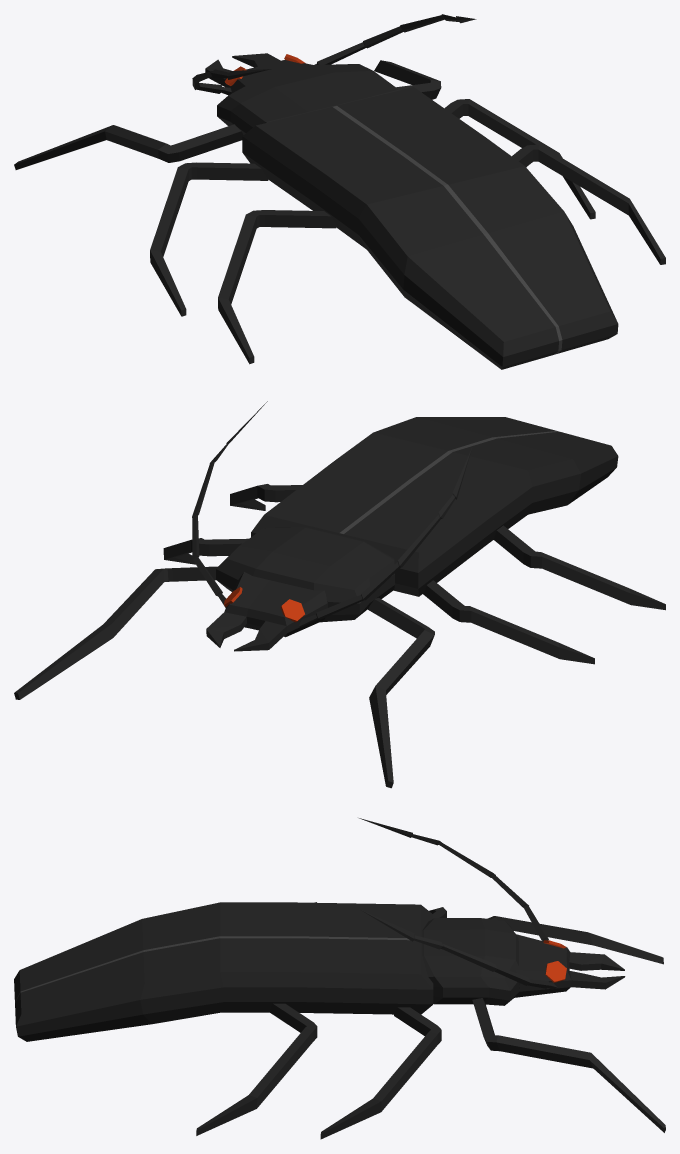
File: drevoed.fbx
3 renders of one model, top to bottom at view 1: azimuth 30°, elevation 25°; view 2: azimuth 150°, elevation 25°; view 3: azimuth 270°, elevation 25°, orthographic. The views are drawn at different scales.
Parts seen in each view (by area): view 1: Cube, Cube.001, Cube.005, Cube.007, Cube.009, Cube.006, Cube.008, Cube.002, Cube.004, Cube.010, Cube.003; view 2: Cube, Cube.001, Cube.002, Cube.010, Cube.009, Cube.005, Cube.007, Cube.003, Cube.008, Cube.004, Cube.006; view 3: Cube, Cube.001, Cube.002, Cube.010, Cube.006, Cube.008, Cube.009, Cube.004, Cube.003.
Part boxes in pixels (x1,y1,x2,y2): Cube: (242, 87, 618, 369); Cube.001: (217, 64, 398, 134); Cube.005: (218, 210, 336, 364); Cube.007: (150, 162, 268, 316); Cube.009: (14, 124, 243, 169); Cube.006: (512, 144, 665, 264); Cube.008: (444, 99, 595, 219); Cube.002: (205, 53, 314, 93); Cube.004: (314, 14, 476, 65); Cube.010: (374, 60, 441, 99); Cube.003: (192, 69, 271, 95); Cube: (251, 417, 618, 596); Cube.001: (216, 527, 394, 622); Cube.002: (206, 572, 327, 651); Cube.010: (14, 566, 217, 699); Cube.009: (367, 597, 434, 788); Cube.005: (493, 525, 665, 610); Cube.007: (423, 580, 594, 664); Cube.003: (299, 447, 472, 627); Cube.008: (163, 538, 248, 564); Cube.004: (192, 401, 267, 607); Cube.006: (230, 484, 302, 510); Cube: (14, 902, 433, 1041); Cube.001: (422, 918, 519, 1005); Cube.002: (514, 934, 625, 997); Cube.010: (472, 998, 665, 1132); Cube.006: (196, 1003, 317, 1135); Cube.008: (320, 1007, 441, 1139); Cube.009: (487, 916, 663, 964); Cube.004: (359, 909, 557, 989); Cube.003: (359, 818, 548, 941).
Size of the model in its own units: 525 by 253 by 792.
